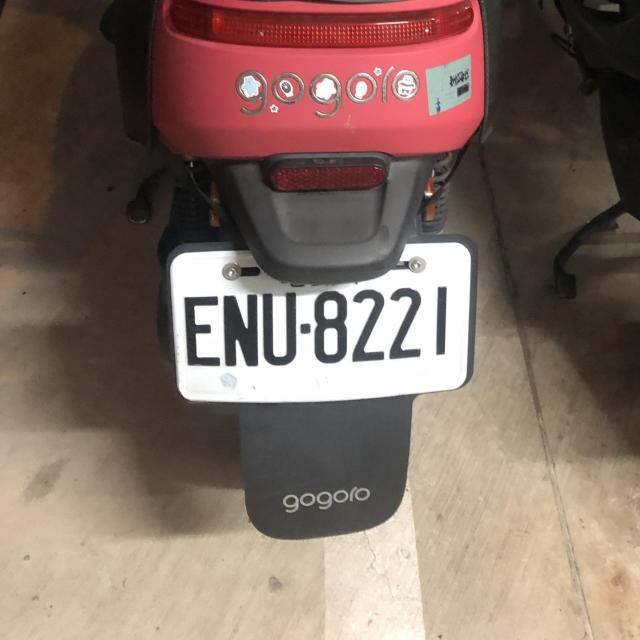W: (162, 246, 477, 408)
